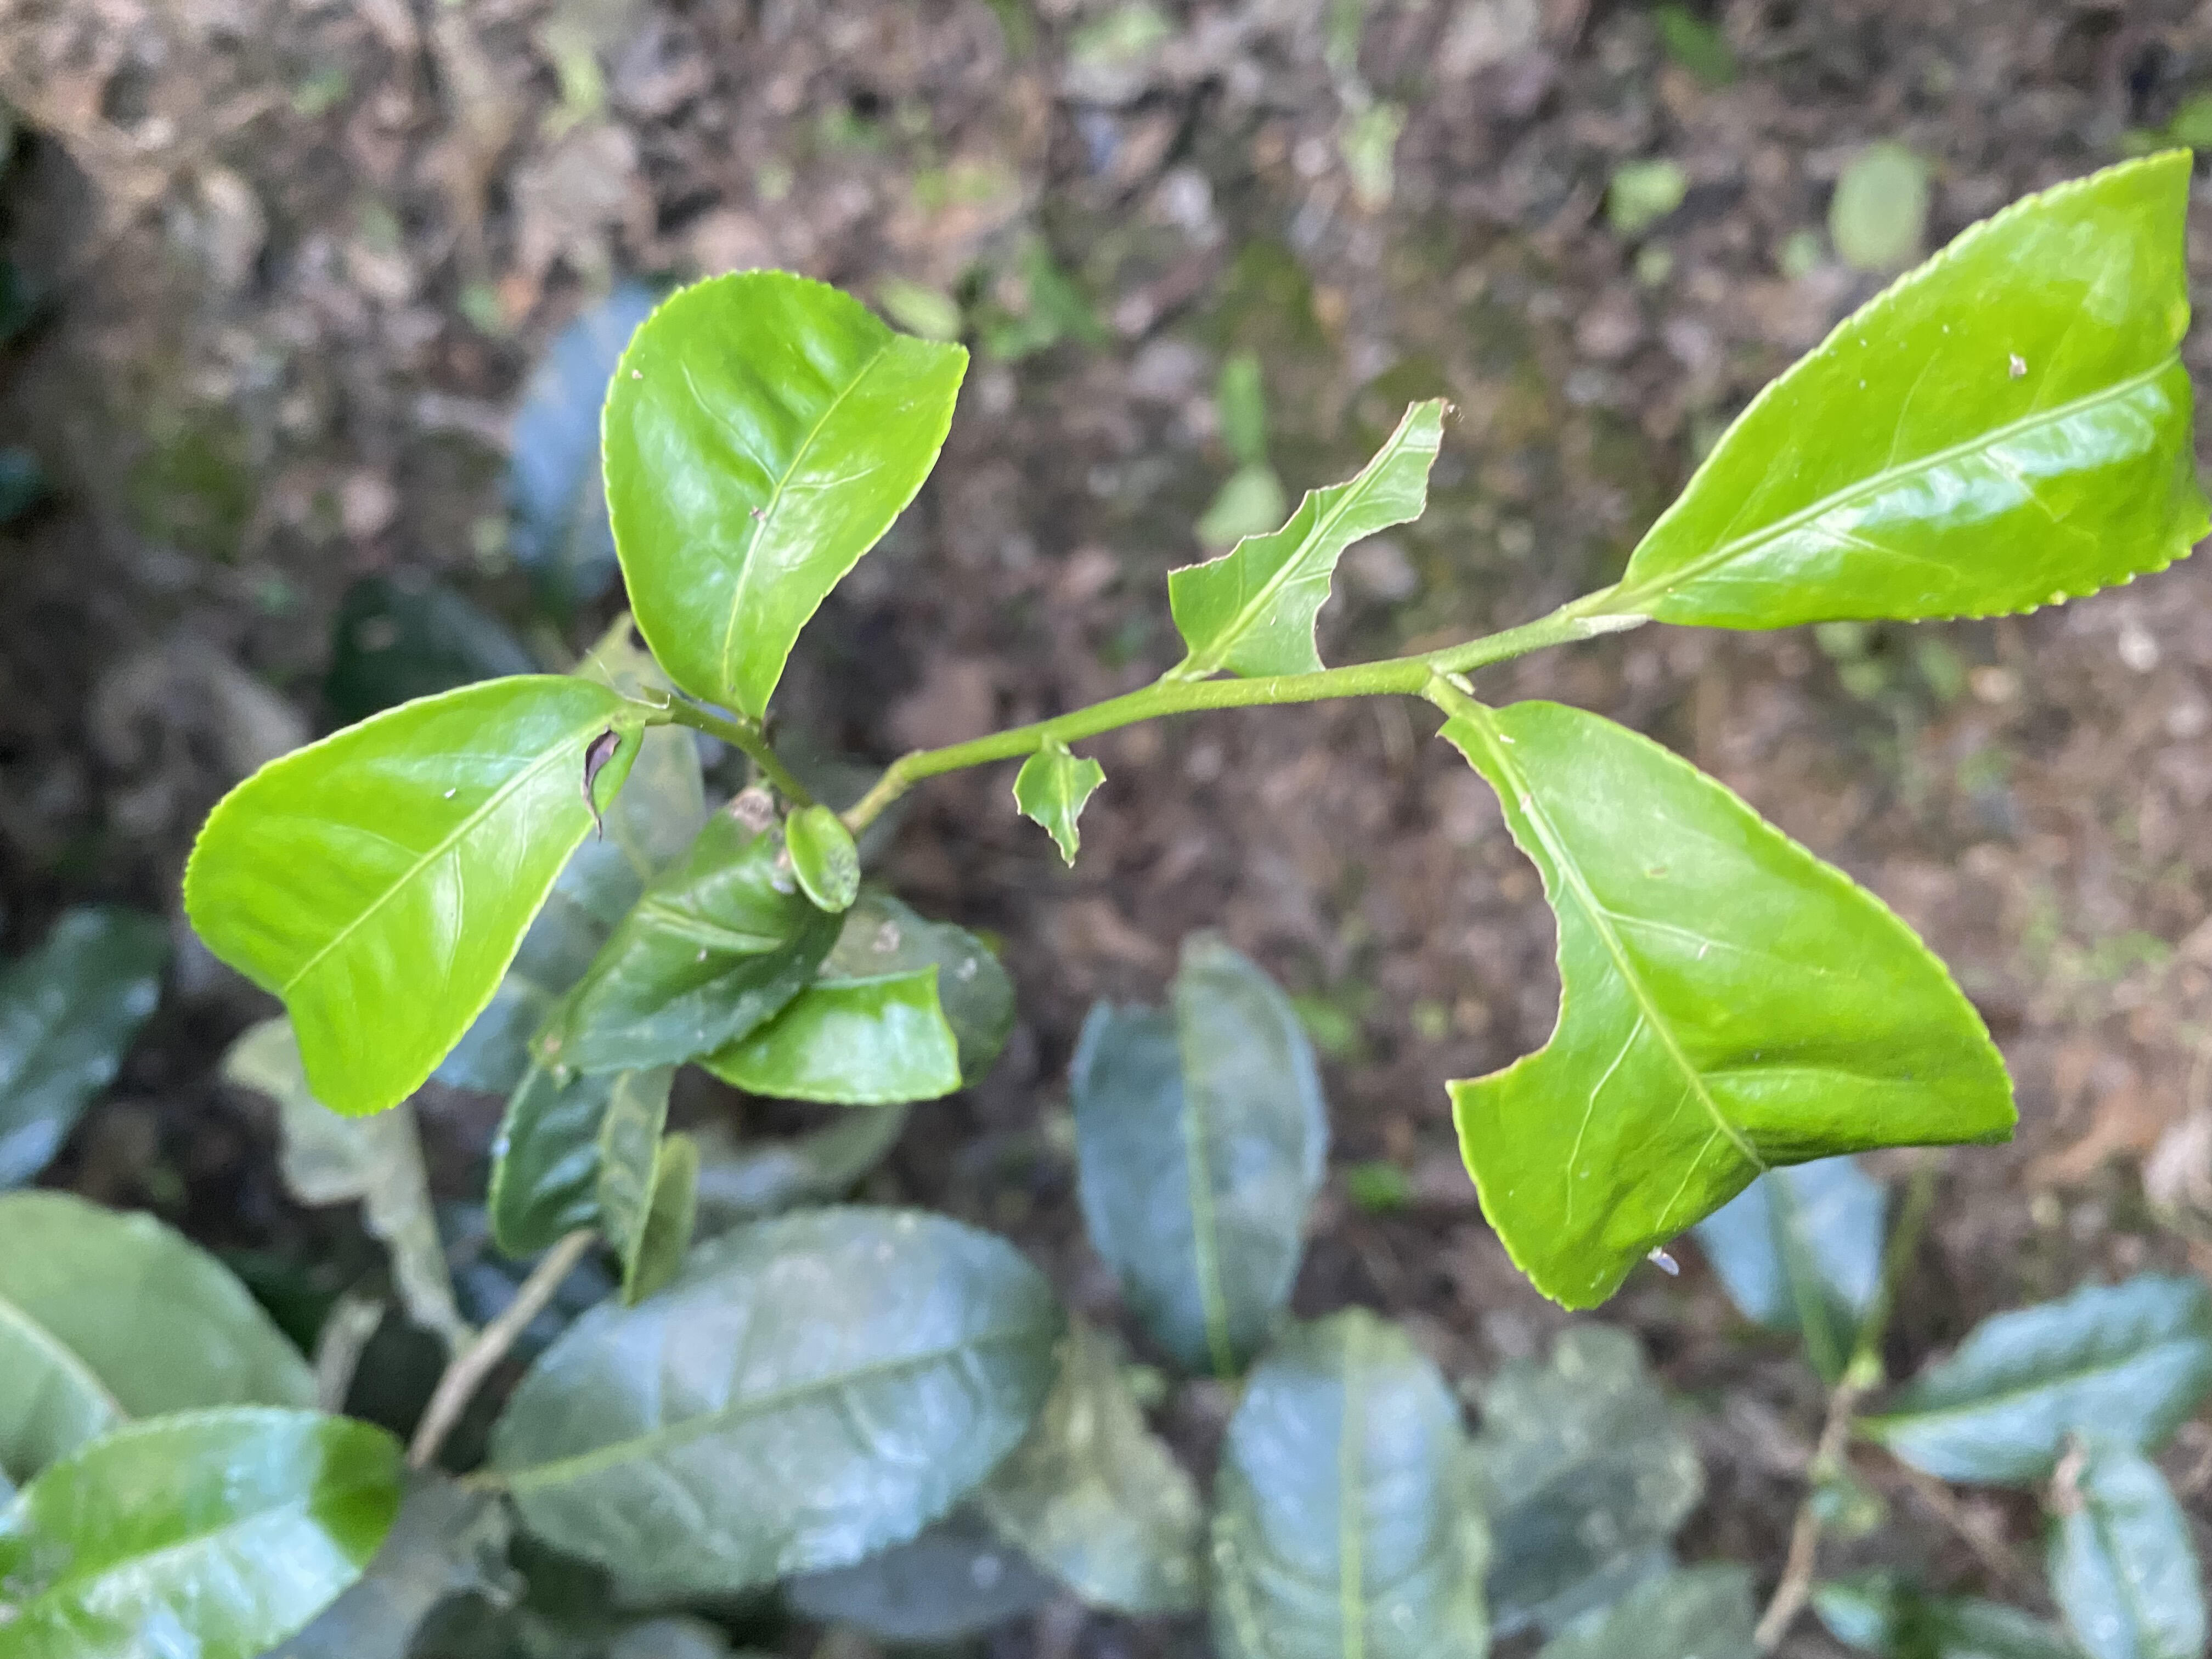chihuo_high: (1435, 695, 2019, 1317), (1165, 396, 1454, 678), (1010, 741, 1108, 871)
chihuo_low: (1062, 934, 1334, 1384)
healthy: (179, 669, 636, 1121), (592, 265, 972, 727)
